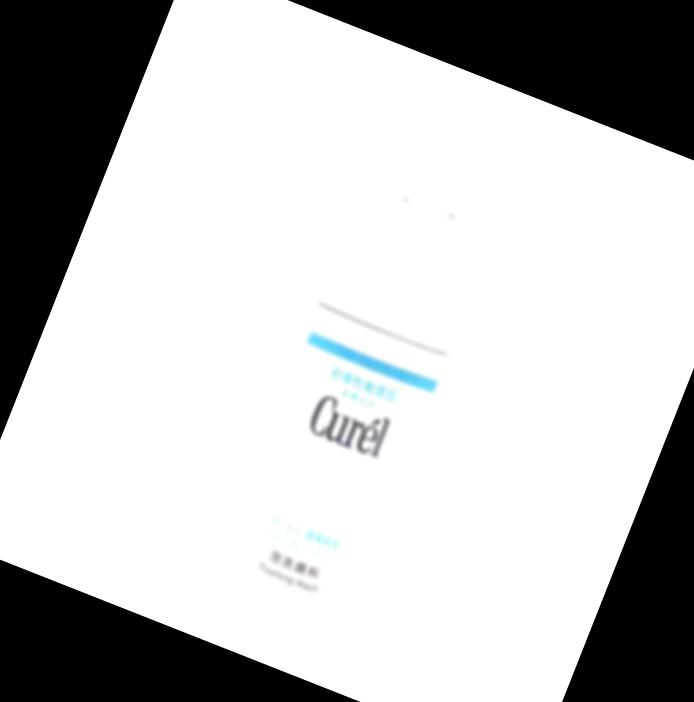cosmetic: (159, 76, 564, 671)
